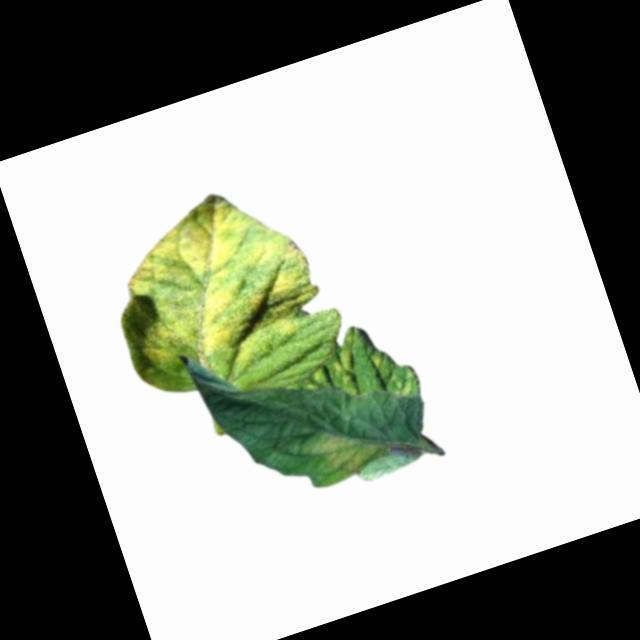Leaf_Mold: (90, 171, 337, 398), (301, 411, 389, 490), (325, 344, 367, 400), (384, 364, 425, 402)
